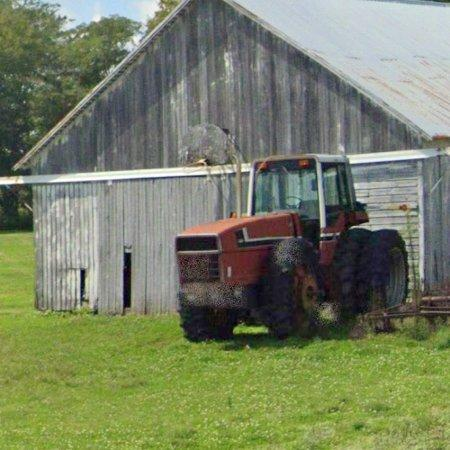tractors: (177, 156, 409, 341)
